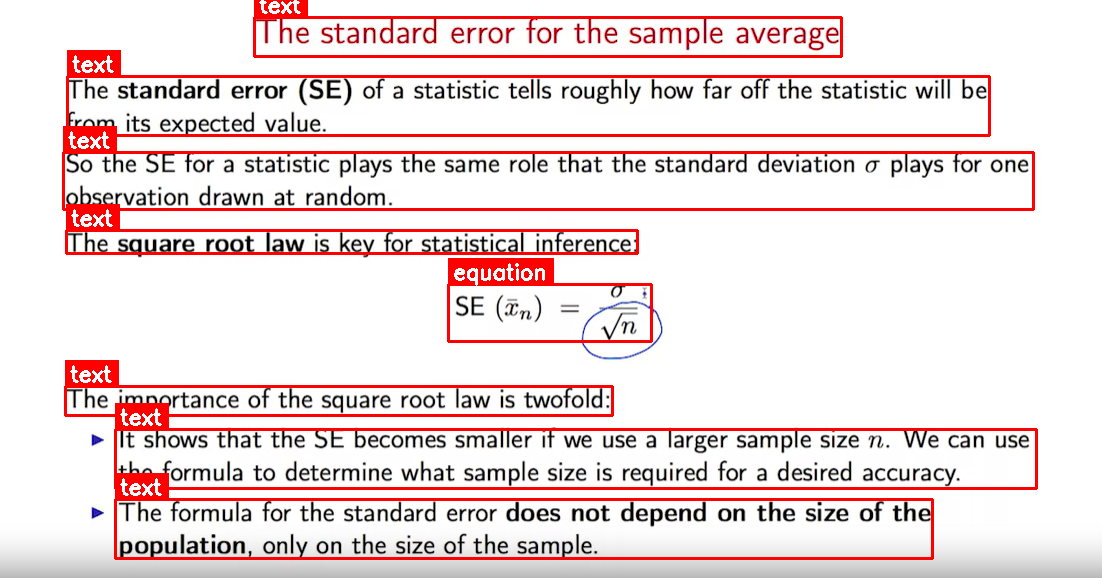equation: (448, 284, 651, 341)
text: (63, 152, 1033, 209), (67, 76, 989, 135), (115, 429, 1036, 488), (115, 499, 932, 558), (254, 17, 841, 56), (65, 386, 612, 415), (66, 230, 637, 253)
